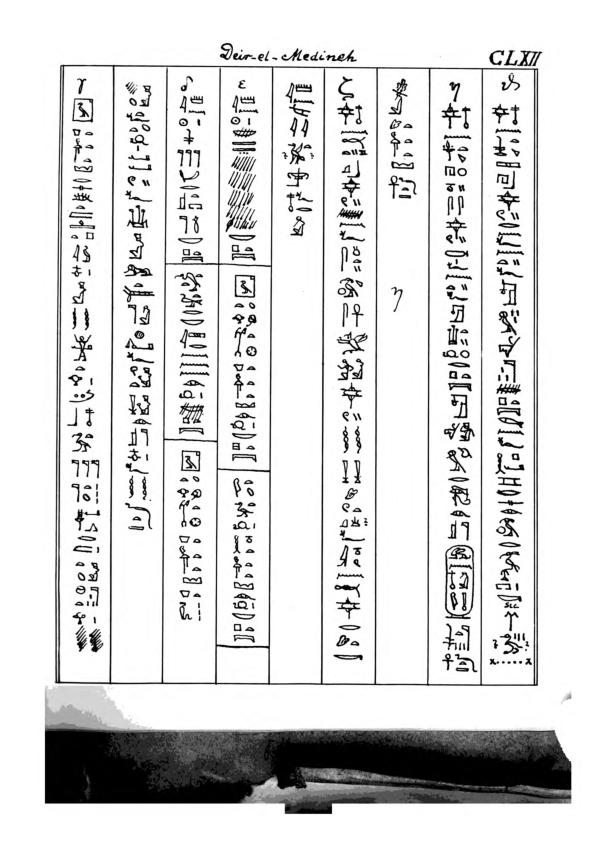circle: (443, 543, 475, 622)
